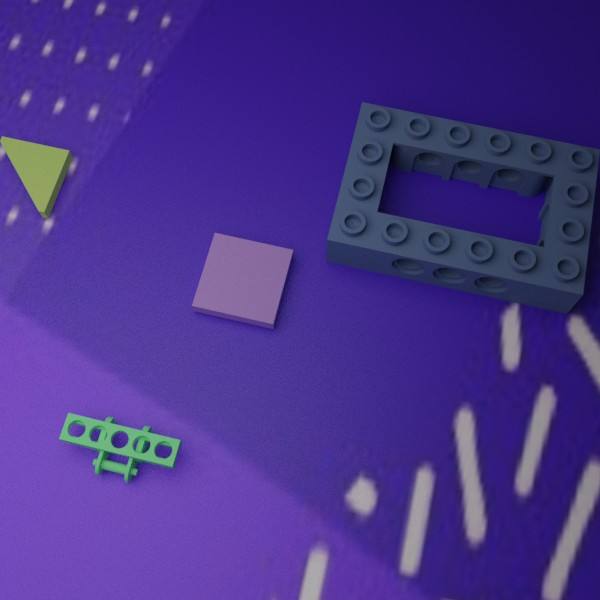lego: (325, 102, 600, 313), (191, 232, 293, 329), (59, 412, 182, 482), (0, 136, 72, 218)
